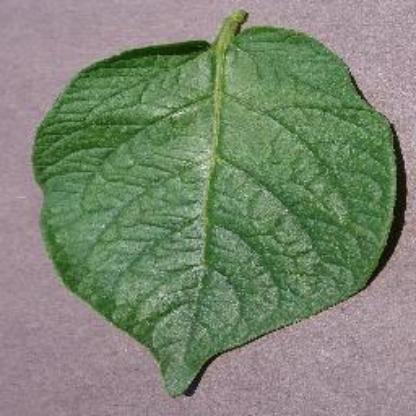Healthy-plant: (32, 10, 404, 398)
